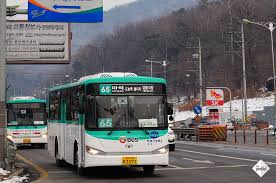bnum: (98, 118, 112, 127)
